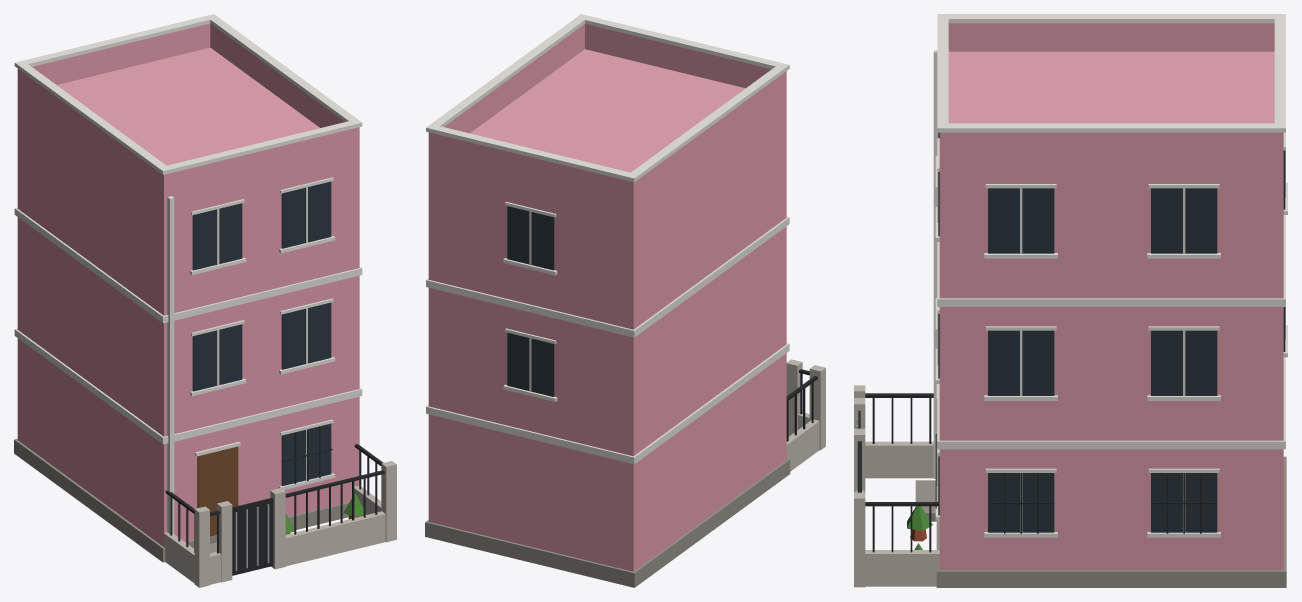
Rendered from BAY_F_Corner_E.glb.
3 views of the same model, side by side, from view 1: azimuth 30°, elevation 25°; view 2: azimuth 150°, elevation 25°; view 3: azimuth 270°, elevation 25° (orthographic). The views are drawn at different scales.
Parts seen in each view (by area): view 1: BAY_F_Corner_E; view 2: BAY_F_Corner_E; view 3: BAY_F_Corner_E.
Boxes of the visible parts, left/top/right/bottom form: BAY_F_Corner_E: left=14, top=14, right=396, bottom=587; BAY_F_Corner_E: left=425, top=14, right=825, bottom=587; BAY_F_Corner_E: left=854, top=14, right=1287, bottom=587.
Size of the model in its own units: 4.52 by 8.4 by 7.19.
1 material, 1 textured.
